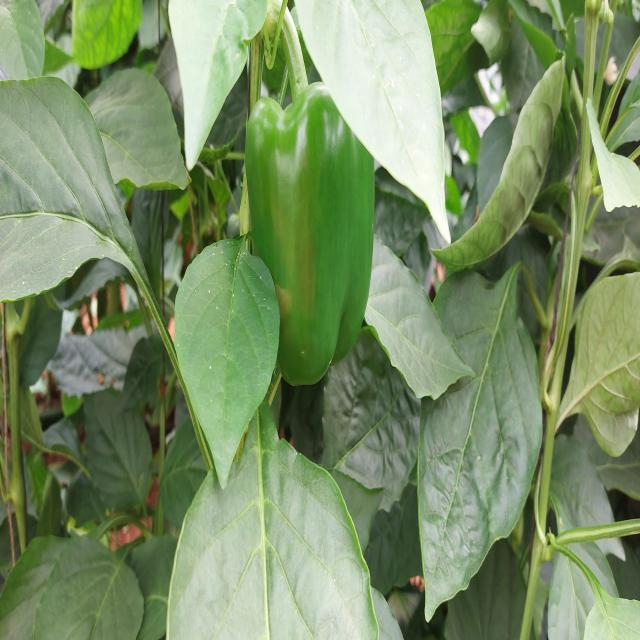Green--Not-ready-to-harvest: (247, 93, 374, 394)
